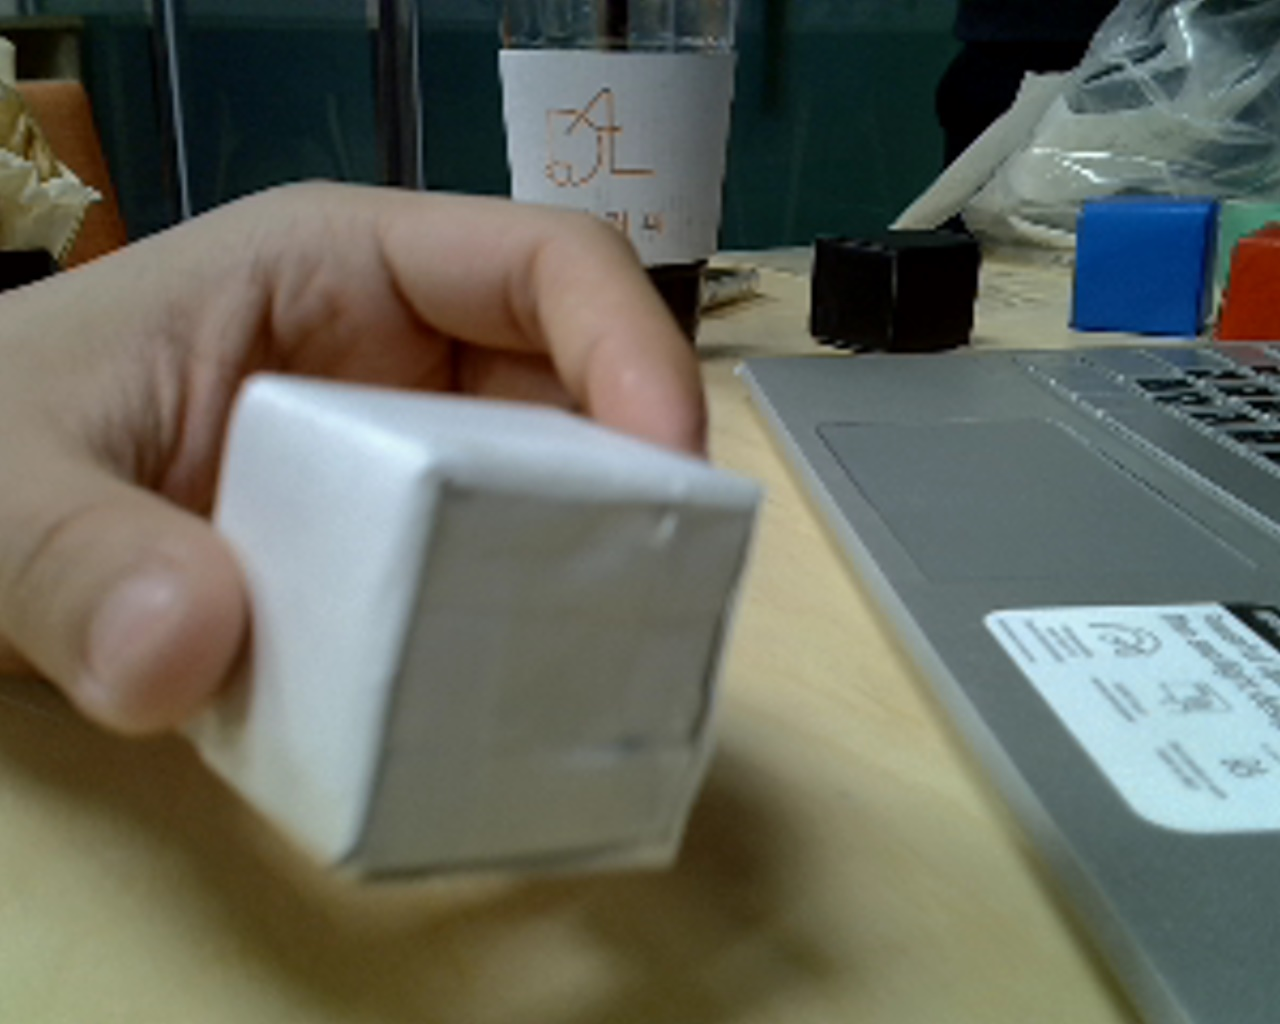whitebox: (158, 322, 795, 941)
